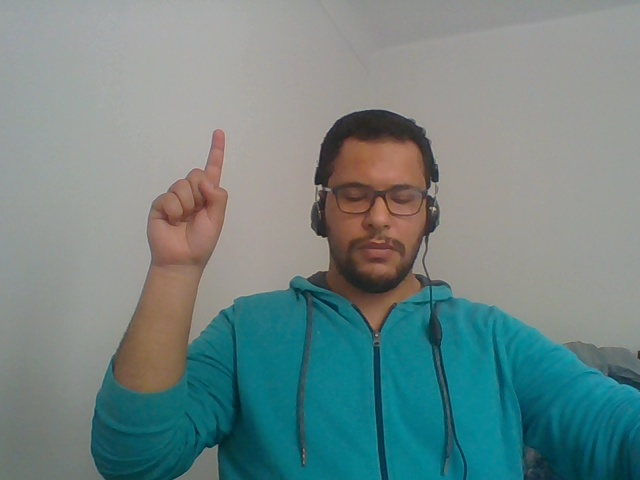handup: (132, 104, 263, 375)
